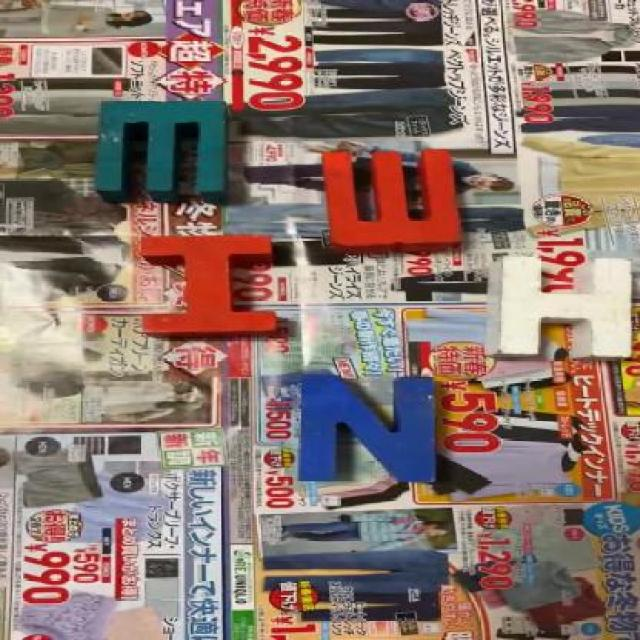H: (484, 254, 636, 361)
I: (147, 236, 282, 335)
M: (99, 101, 230, 194)
N: (298, 373, 438, 482)
W: (325, 149, 460, 248)
